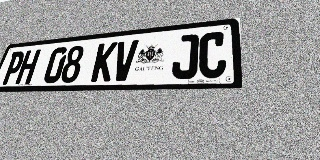0: (42, 47, 69, 83)
8: (59, 45, 86, 83)
C: (198, 31, 226, 79)
H: (15, 49, 41, 84)
J: (171, 34, 199, 79)
K: (90, 42, 118, 82)
P: (0, 51, 26, 85)
V: (111, 40, 139, 81)
